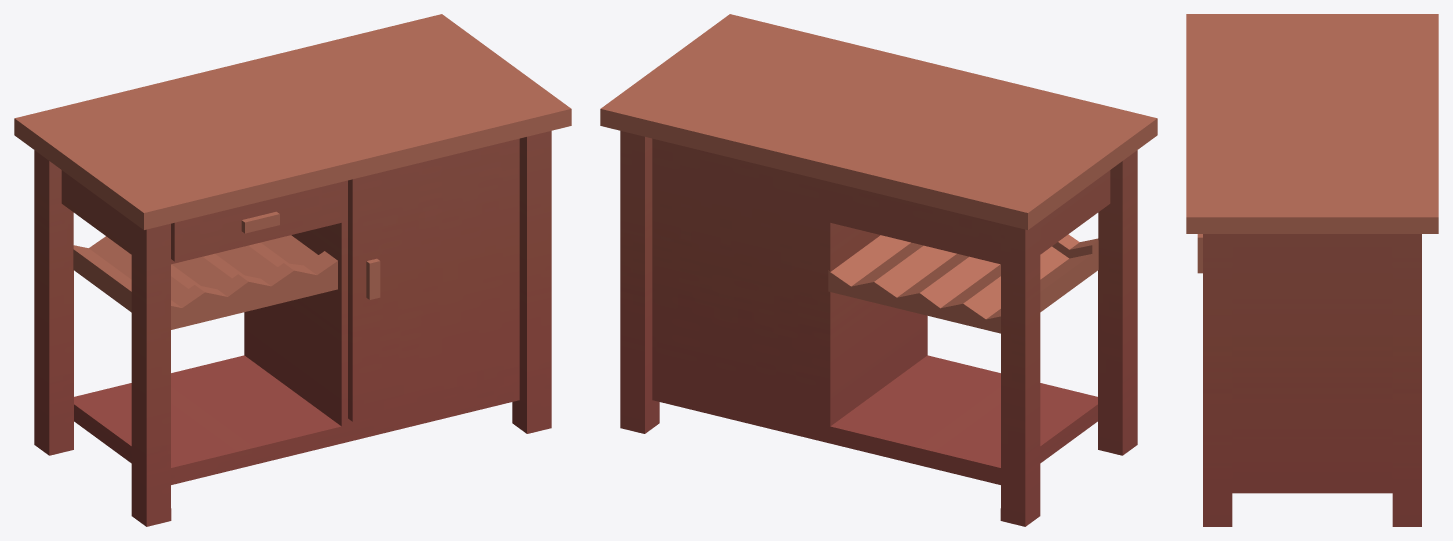
Rendered from SM_Cabinet_Kitchen_02.fbx.
3 renders of one model, left to right at view 1: azimuth 30°, elevation 25°; view 2: azimuth 150°, elevation 25°; view 3: azimuth 270°, elevation 25°, orthographic. The views are drawn at different scales.
Parts seen in each view (by area): view 1: SM_Cabinet_Kitchen_02; view 2: SM_Cabinet_Kitchen_02; view 3: SM_Cabinet_Kitchen_02.
Boxes of the visible parts, x1,y1,x2,y2 form: SM_Cabinet_Kitchen_02: [14, 14, 571, 526]; SM_Cabinet_Kitchen_02: [600, 14, 1157, 526]; SM_Cabinet_Kitchen_02: [1186, 14, 1438, 526].
Size of the model in its own units: 143 by 103 by 74.84.
